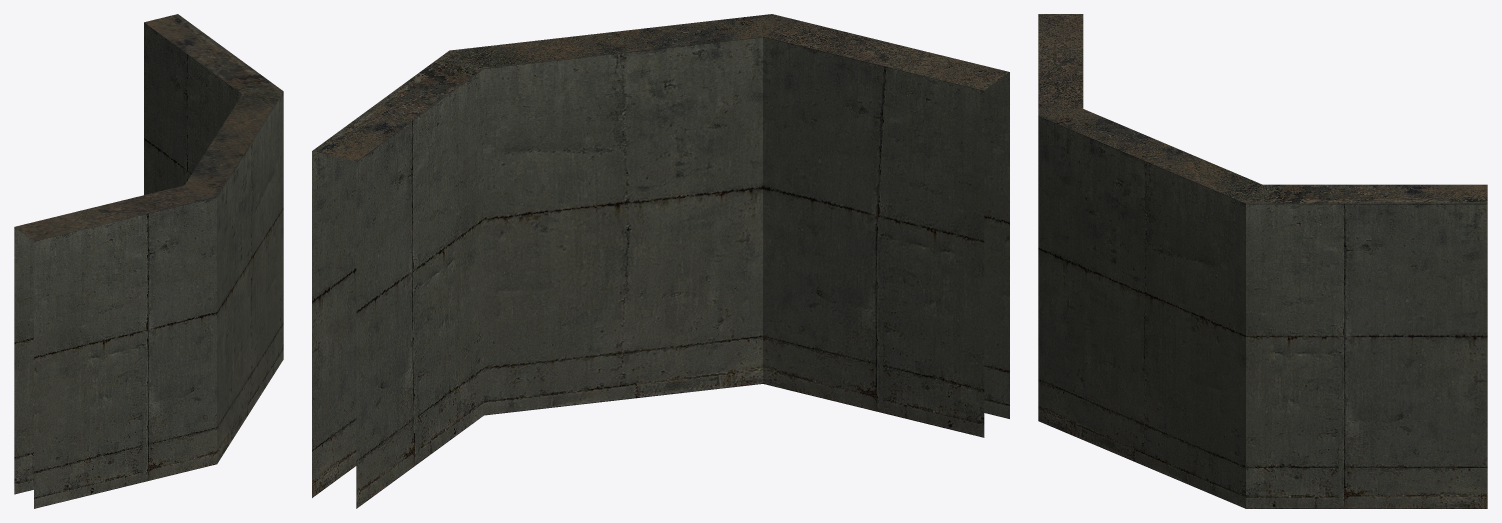
File: wall_rg_1_m2a_1.glb
3 renders of one model, left to right at view 1: azimuth 30°, elevation 25°; view 2: azimuth 150°, elevation 25°; view 3: azimuth 270°, elevation 25°, orthographic. The views are drawn at different scales.
Parts seen in each view (by area): view 1: wall_rg_1_m2a_1; view 2: wall_rg_1_m2a_1; view 3: wall_rg_1_m2a_1.
Boxes of the visible parts, x1,y1,x2,y2 form: wall_rg_1_m2a_1: [14, 14, 283, 508]; wall_rg_1_m2a_1: [312, 14, 1009, 508]; wall_rg_1_m2a_1: [1038, 14, 1487, 508].
Bounding box in the file's own units: 4 × 3 × 4.
2 materials, 2 textured.
